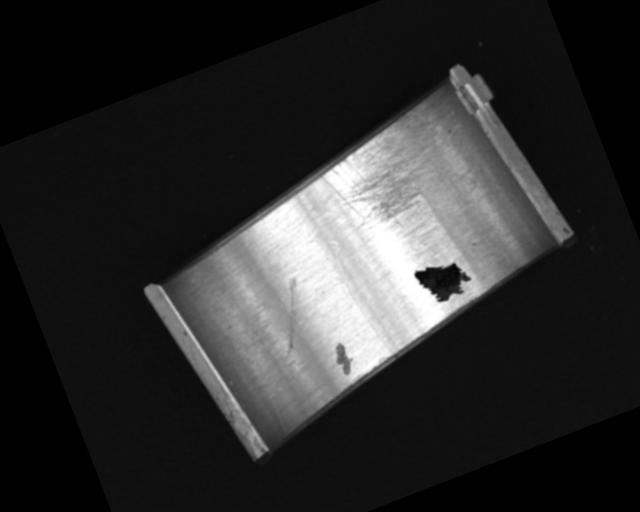blot: (412, 252, 477, 310)
bruise: (328, 339, 358, 379)
nick: (327, 235, 393, 360), (261, 274, 322, 358)
scratch: (308, 103, 463, 250)
